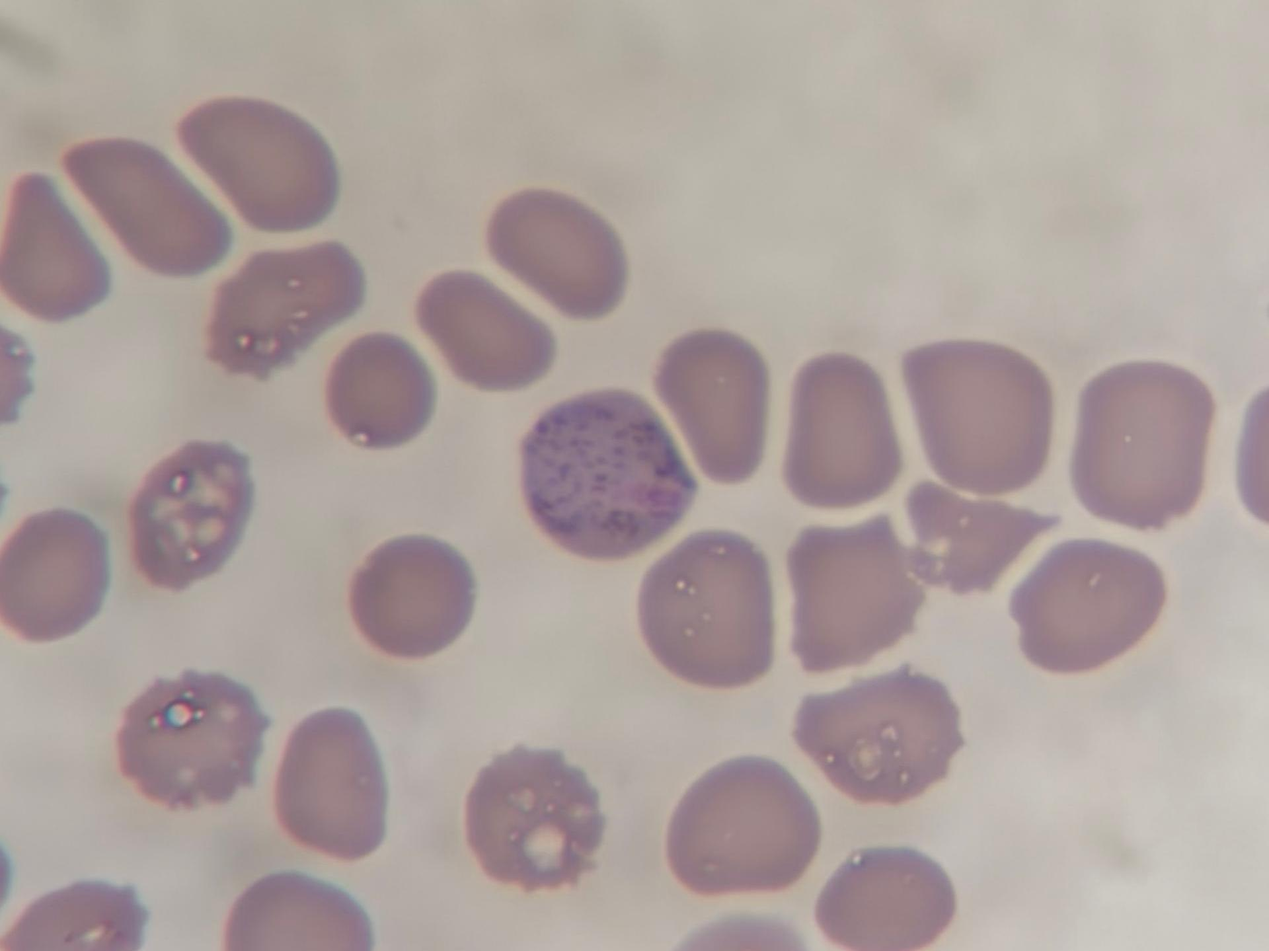Infected: (573, 387, 750, 563)
Uninfected: (50, 423, 200, 592), (215, 453, 373, 611), (925, 714, 1091, 859), (1038, 674, 1211, 813), (99, 271, 260, 417), (444, 55, 604, 195), (311, 146, 475, 279), (349, 275, 482, 438), (902, 572, 1061, 707), (1006, 141, 1154, 284), (492, 266, 631, 415), (641, 628, 789, 767), (664, 66, 806, 205), (365, 443, 490, 600), (497, 461, 616, 621), (879, 90, 994, 245), (712, 557, 854, 682), (1016, 364, 1139, 505), (790, 288, 921, 419), (218, 356, 369, 464), (1160, 628, 1269, 772), (314, 0, 456, 109), (1153, 311, 1269, 438), (836, 503, 948, 621)
